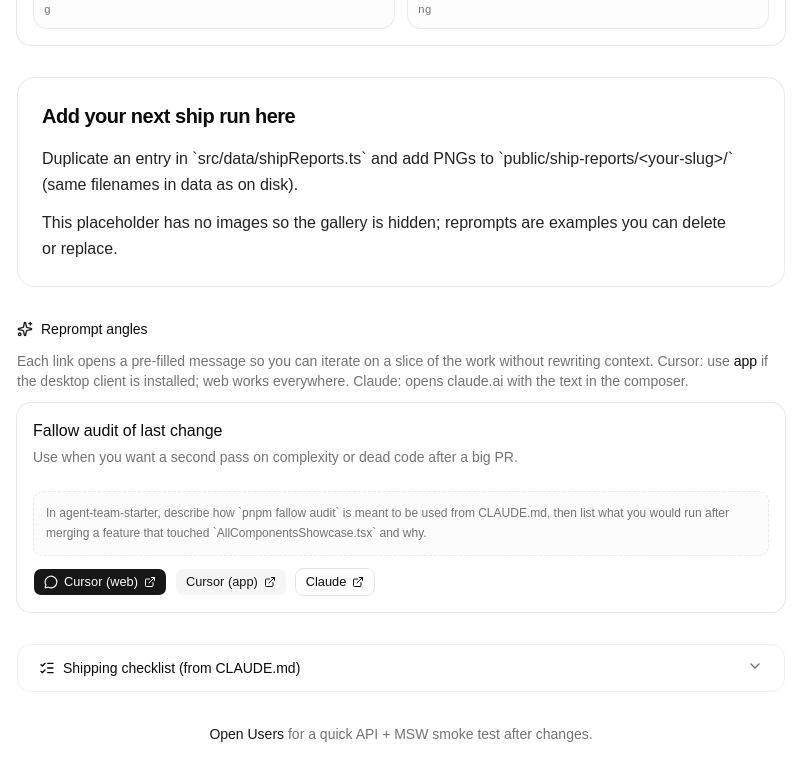
Test case: ShipReportPage › expands the shipping checklist accordion
(page scrolled)
Click the button "Shipping checklist (from CLAUDE.md)".
click(182, 668)  # box 22,645 -> 780,691
(page scrolled)
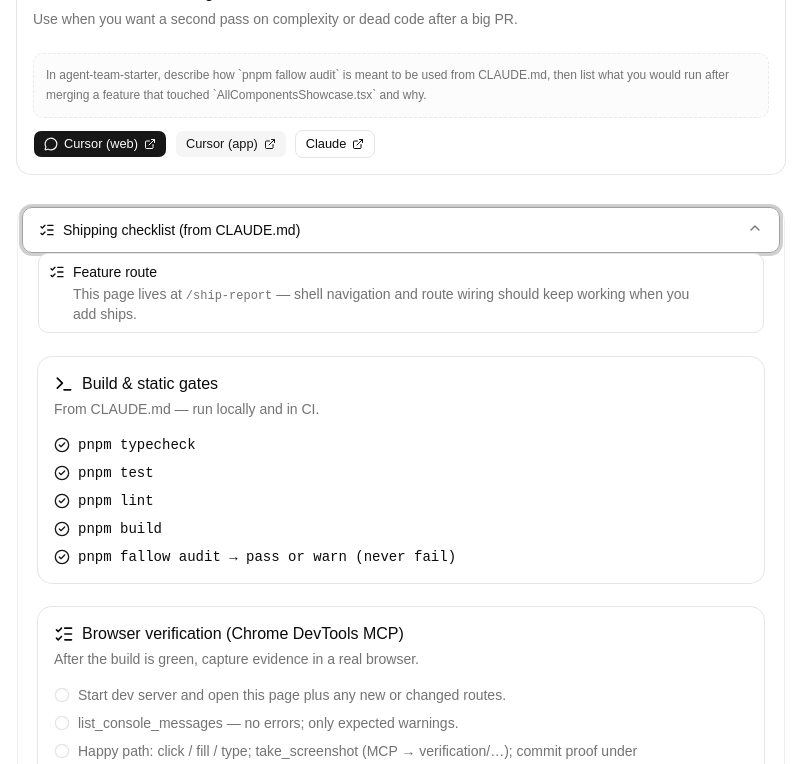
expect the text "Build & static gates" is shown: met, box 82,373 -> 218,395
